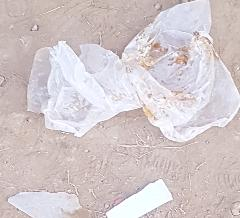plastic: (27, 0, 239, 142)
